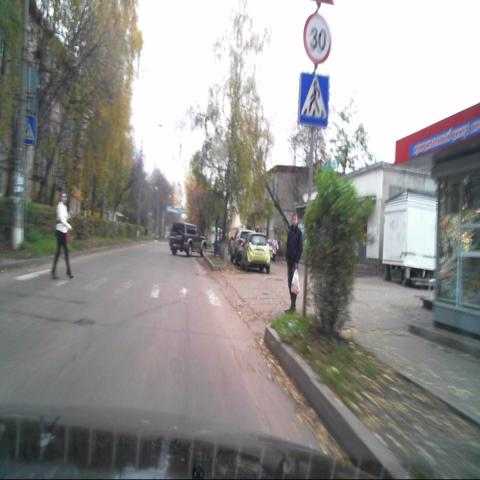3_24: (303, 15, 331, 64)
5_19_1: (298, 74, 330, 130)
